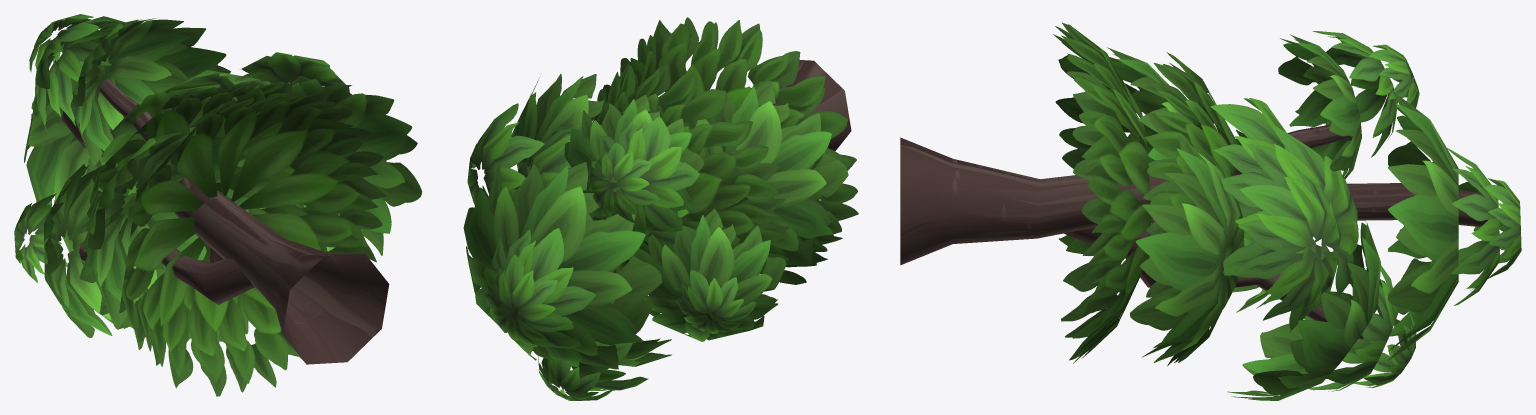
File: ASSETMODEL_ARBOLP_R.fbx
3 views of the same model, side by side, from view 1: azimuth 30°, elevation 25°; view 2: azimuth 150°, elevation 25°; view 3: azimuth 270°, elevation 25° (orthographic). The views are drawn at different scales.
Visible parts, largest first — view 1: Sphere.003; view 2: Sphere.003; view 3: Sphere.003.
Part boxes in pixels (x1,y1,x2,y2): Sphere.003: (14, 14, 422, 396); Sphere.003: (463, 17, 858, 400); Sphere.003: (900, 22, 1521, 400).
Bounding box in the file's own units: 253 × 228 × 368.
1 material, 1 textured.
